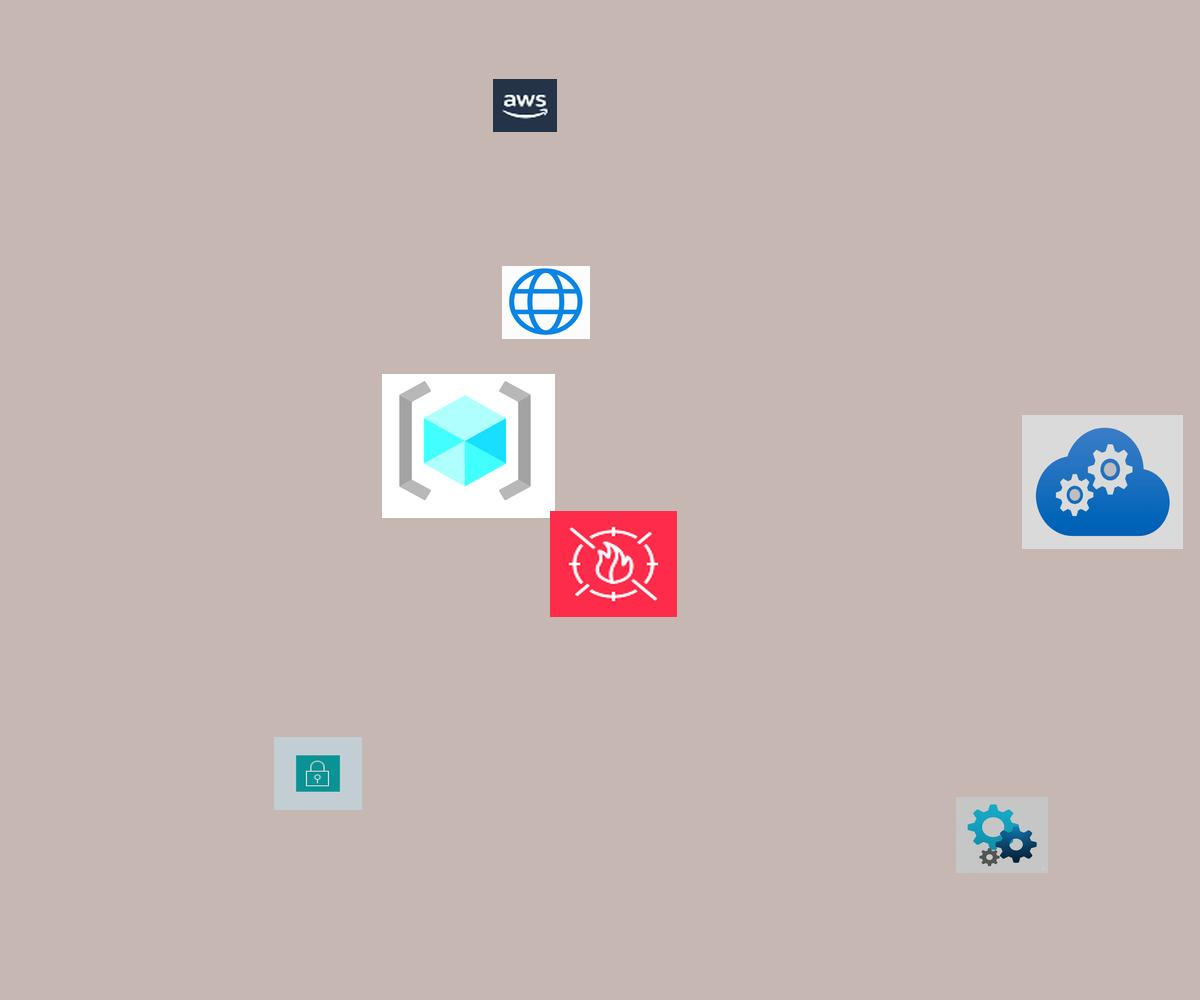AWS-Cloud-logo: (493, 79, 557, 132)
AWS-Private-subnet: (274, 737, 362, 810)
AWS-WAF: (550, 511, 677, 617)
Azure_api: (956, 797, 1048, 873)
Azure_cloud_services: (1022, 415, 1183, 549)
Azure_http: (502, 266, 590, 339)
Azure_resource_group: (382, 374, 555, 518)
